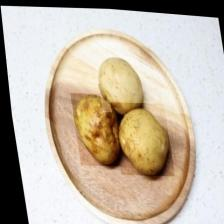Potato: (108, 98, 172, 176), (68, 90, 122, 167), (92, 51, 146, 113)
